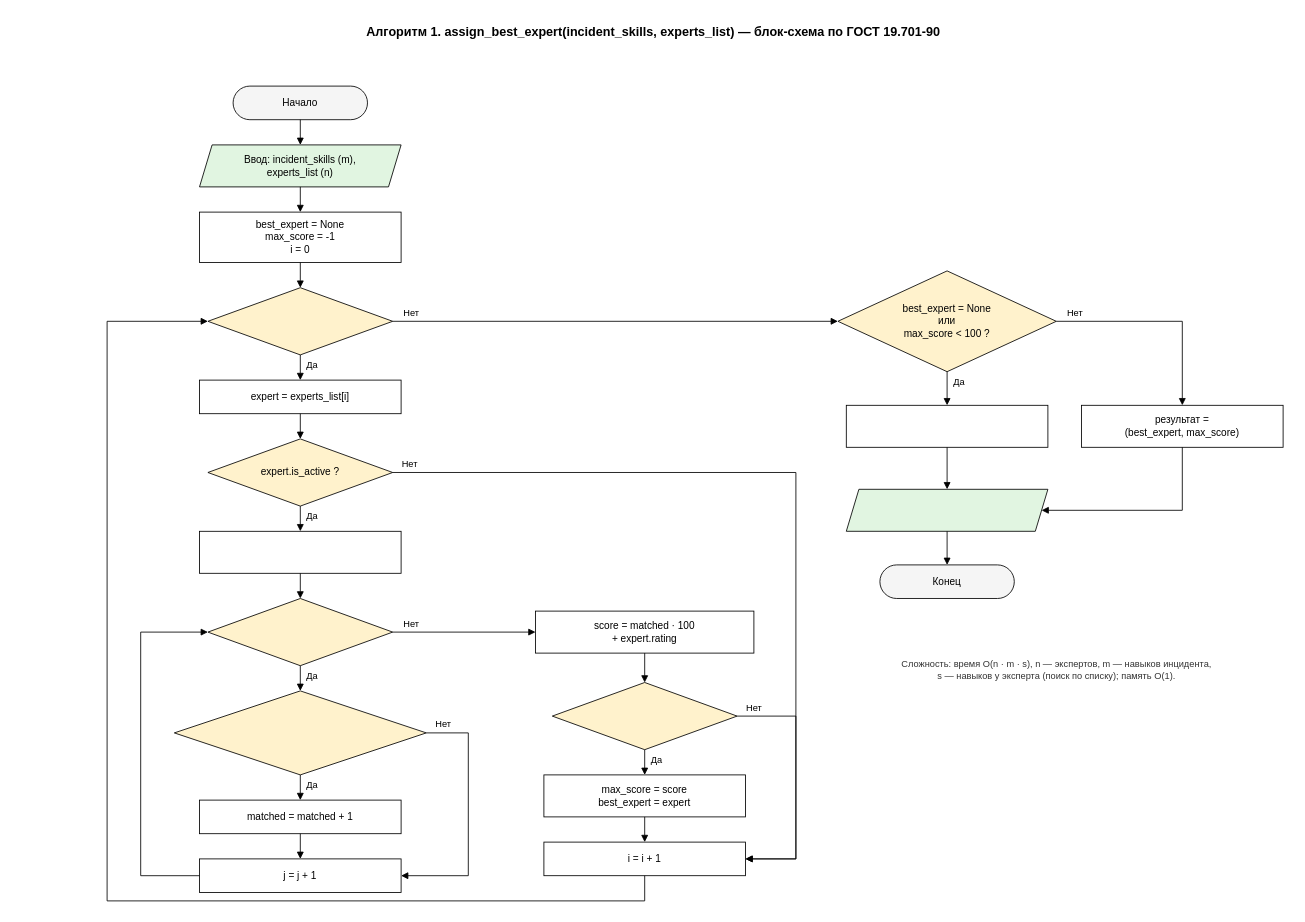
This 1305x922 diagram has some shape labels left out. The shapes that lost their labels are listed below. From the top down, each one's centre as x and y in pixels, then its label:
point 300,321: i < n ? (цикл по экспертам)
point 946,425: результат = (None, 0) «Эксперт не найден»
point 946,509: Вывод: результат
point 300,551: matched = 0 j = 0
point 300,632: j < m ? (цикл по навыкам)
point 299,732: incident_skills[j] входит в expert.skills ? (линейный поиск, до s шагов)
point 644,716: score > max_score ?
